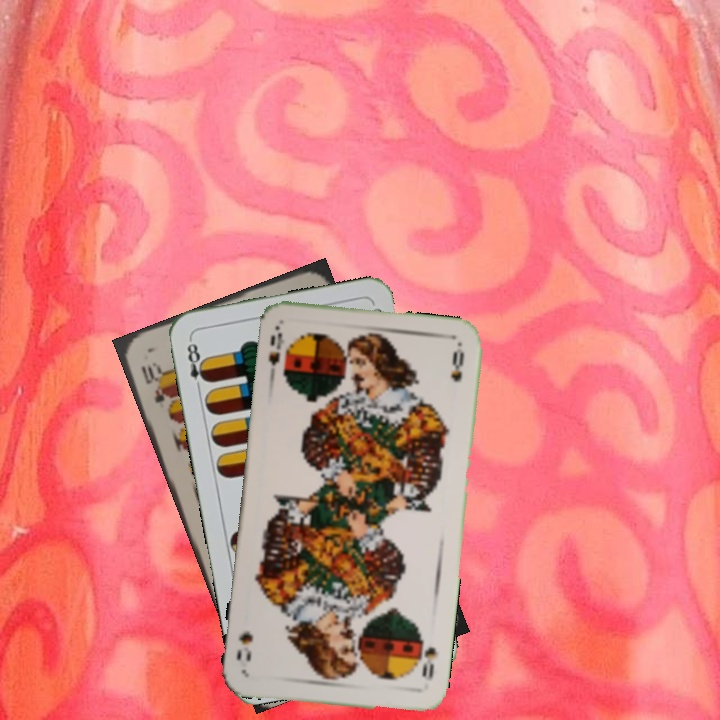E10: (136, 358, 170, 406)
E8: (183, 335, 211, 394)
SO: (264, 328, 287, 382), (418, 642, 440, 683)
